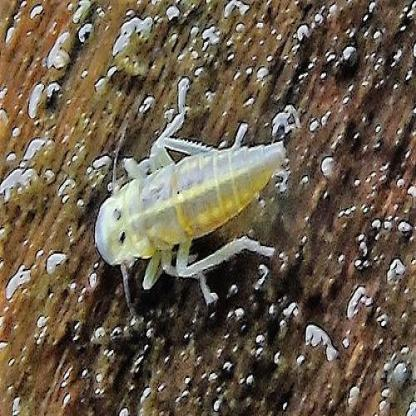Green-Leafhopper: (92, 75, 290, 314)
